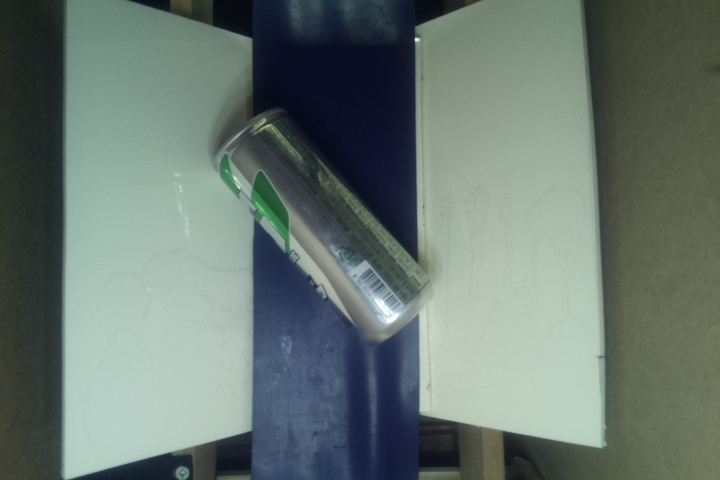can: (213, 111, 438, 343)
